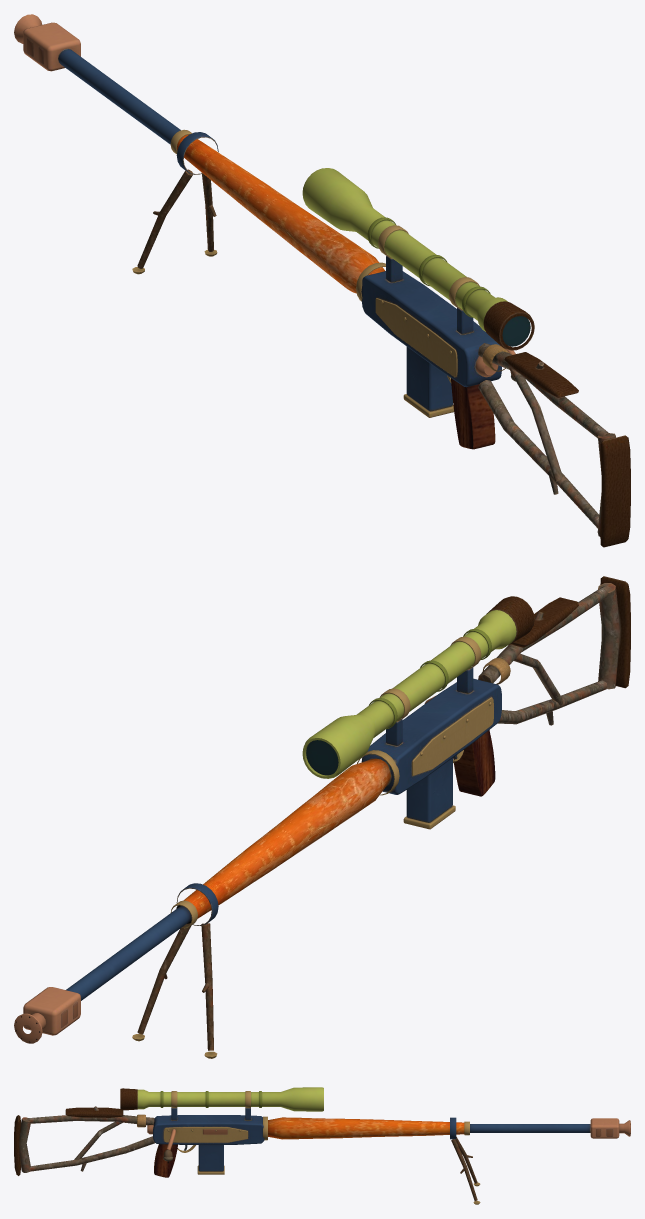
File: big_root_50.glb
3 renders of one model, top to bottom at view 1: azimuth 30°, elevation 25°; view 2: azimuth 150°, elevation 25°; view 3: azimuth 270°, elevation 25°, orthographic. The views are drawn at different scales.
Visible parts, largest first — view 1: big_root_50; view 2: big_root_50; view 3: big_root_50.
Part boxes in pixels (x1,y1,x2,y2): big_root_50: (14, 14, 630, 547); big_root_50: (14, 576, 630, 1058); big_root_50: (14, 1087, 630, 1204).
Size of the model in its own units: 0.1451 by 0.2871 by 1.5.
Materials: 1 (1 with a texture image).
